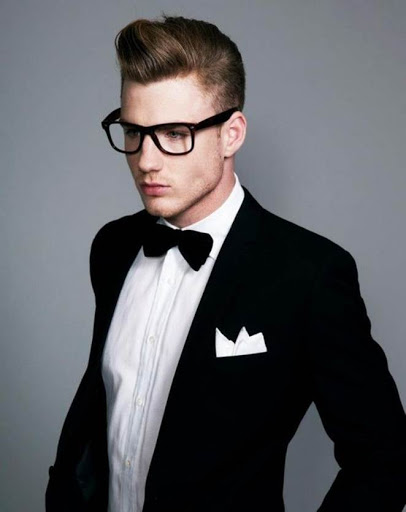bow: (134, 217, 219, 279)
glasses: (96, 105, 247, 160)
